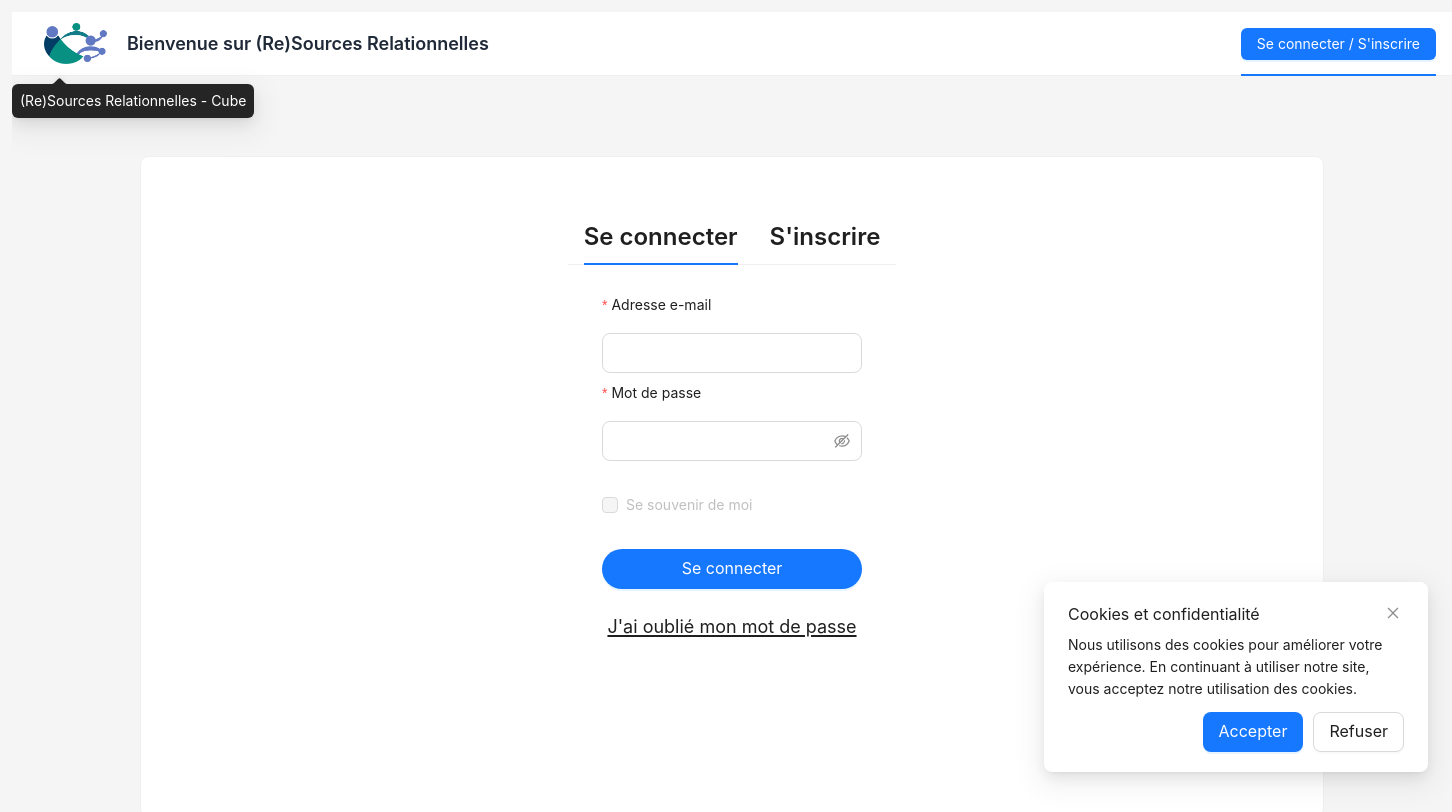
Test: Login page › Login with empty email and password
Click the button "Se connecter" at (732, 569), box x1=602 y1=549 x2=862 y2=589
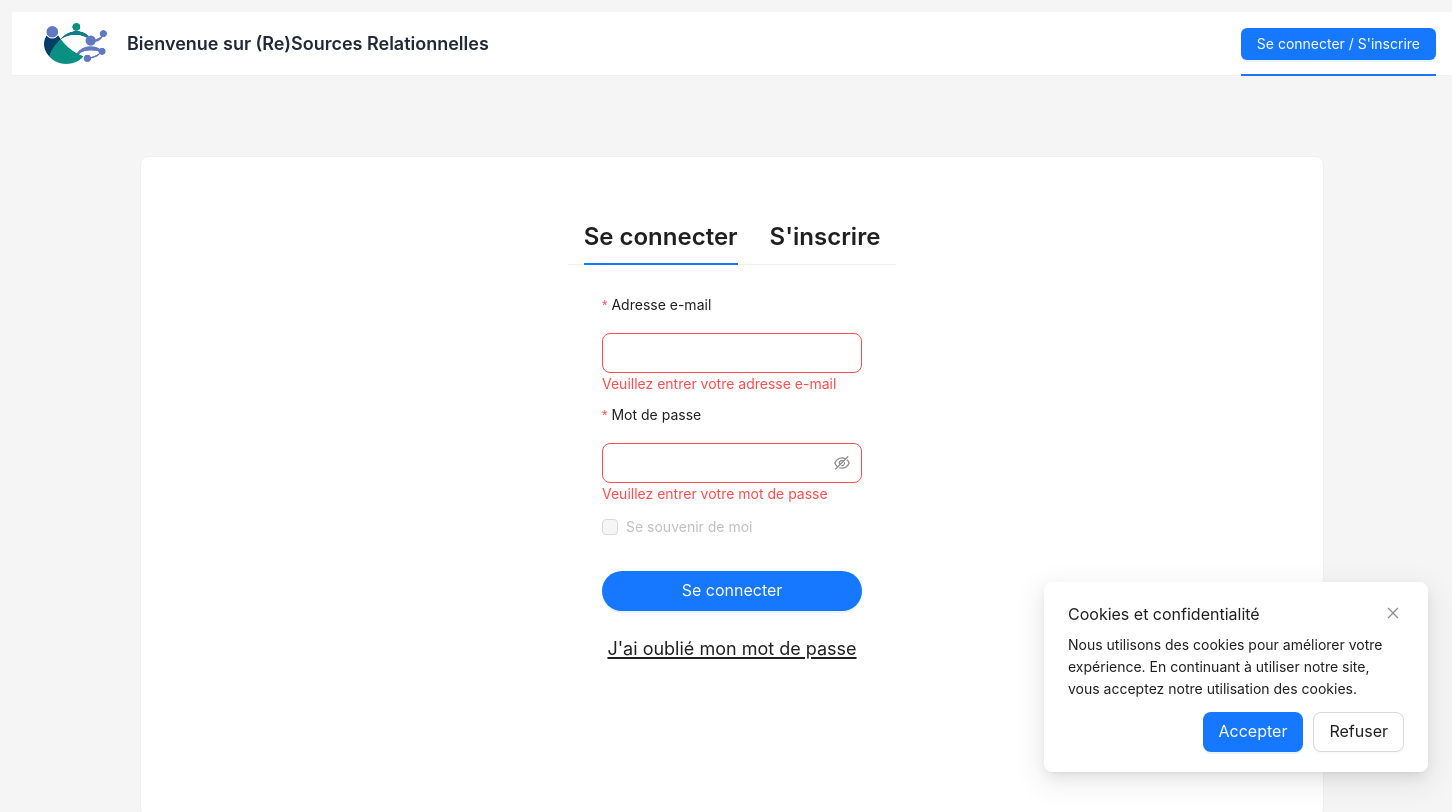
Check: the text "Veuillez entrer votre adresse e-mail" is shown, box x1=602 y1=373 x2=862 y2=395
Check: the text "Veuillez entrer votre mot de passe" is shown, box x1=602 y1=483 x2=862 y2=505
